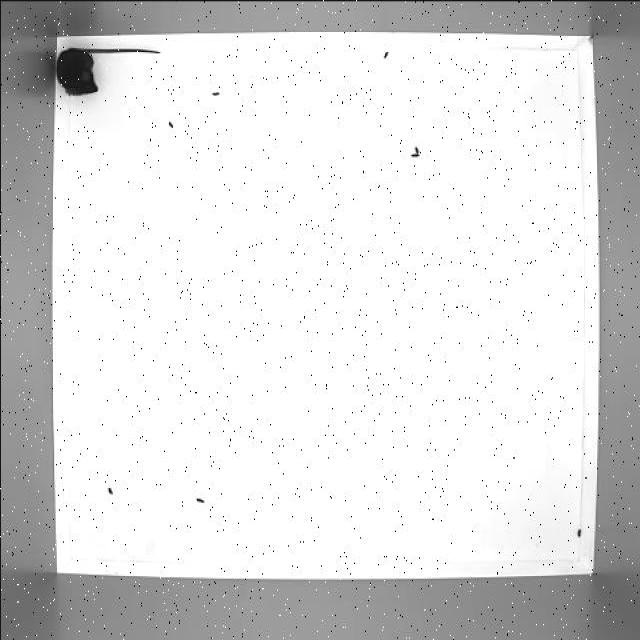rat: (56, 44, 161, 95)
